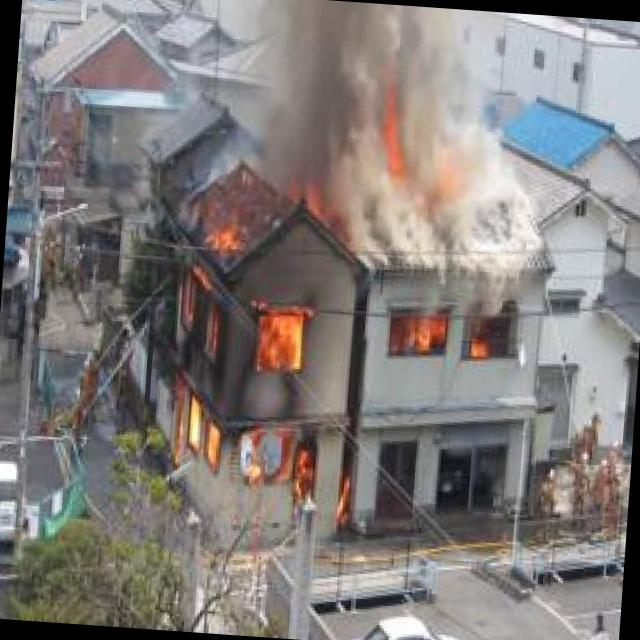Fire: (138, 173, 338, 504), (370, 113, 469, 210), (384, 304, 520, 360)
Smoke: (242, 0, 542, 253)
